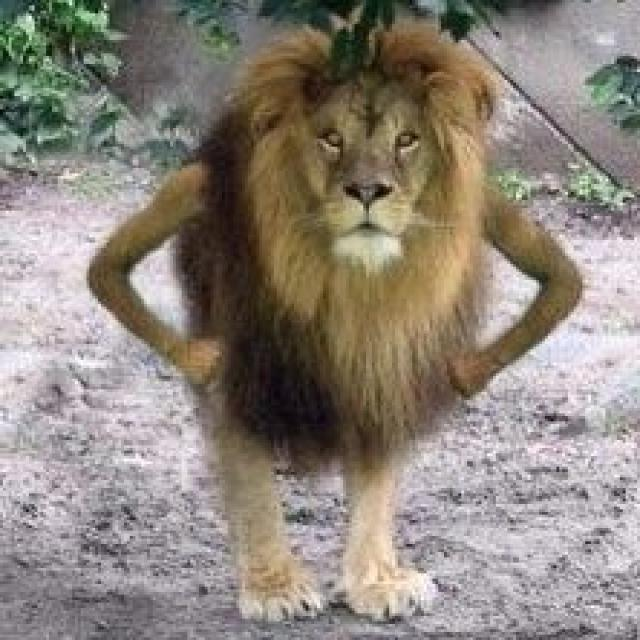lions: (17, 24, 640, 629)
